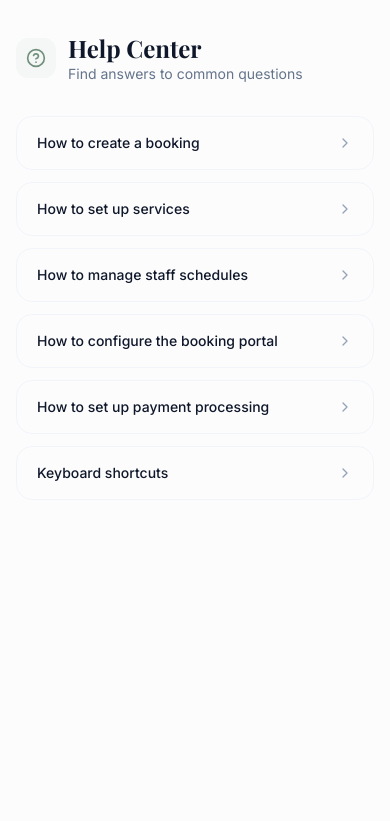
it: HelpPage › can expand multiple FAQ items independently
Click the button "How to create a booking" at (195, 143), box 17,117 -> 373,169
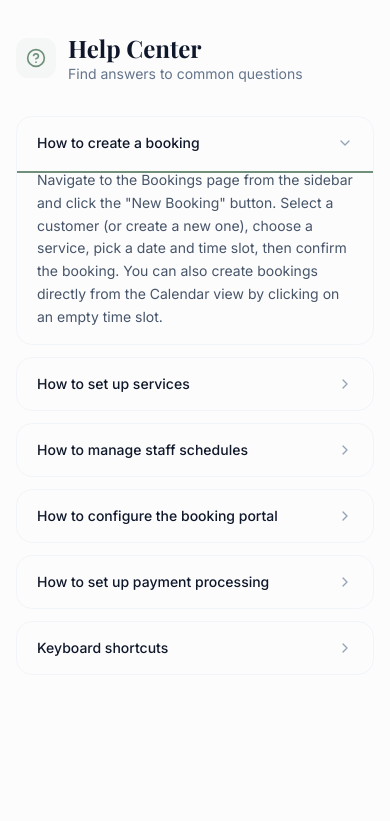
Click the button "How to set up services" at (113, 384), box 17,358 -> 373,410
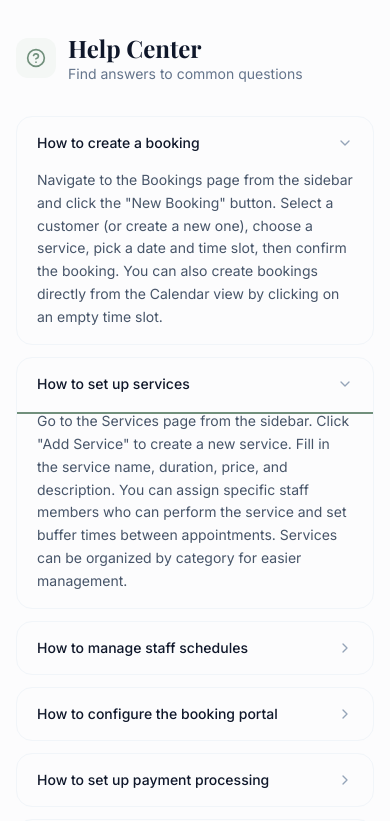
Expected: the text "Navigate to the Bookings page" is shown, 37,171 -> 353,324
Expected: the text "Go to the Services page" is shown, 37,412 -> 349,589
